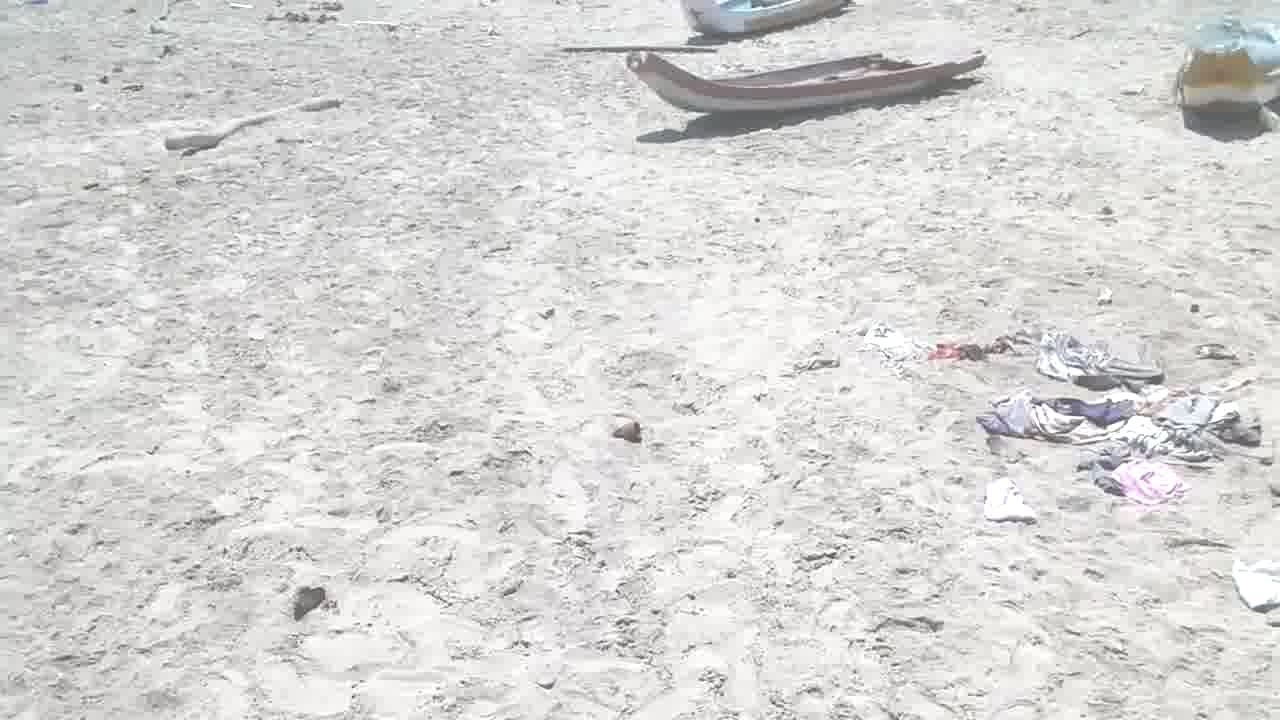large collection of objects: (628, 48, 989, 118), (1172, 47, 1279, 134), (680, 0, 861, 41)
obj: (924, 332, 1270, 507), (164, 96, 342, 150), (1183, 14, 1279, 64), (1230, 561, 1279, 617), (983, 478, 1038, 523), (293, 588, 332, 627), (612, 420, 639, 438)
